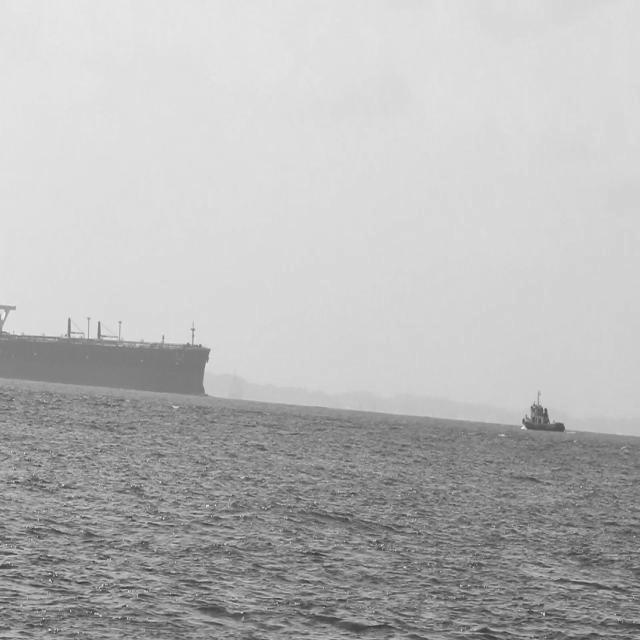ship: (0, 293, 216, 388), (520, 386, 568, 436)
